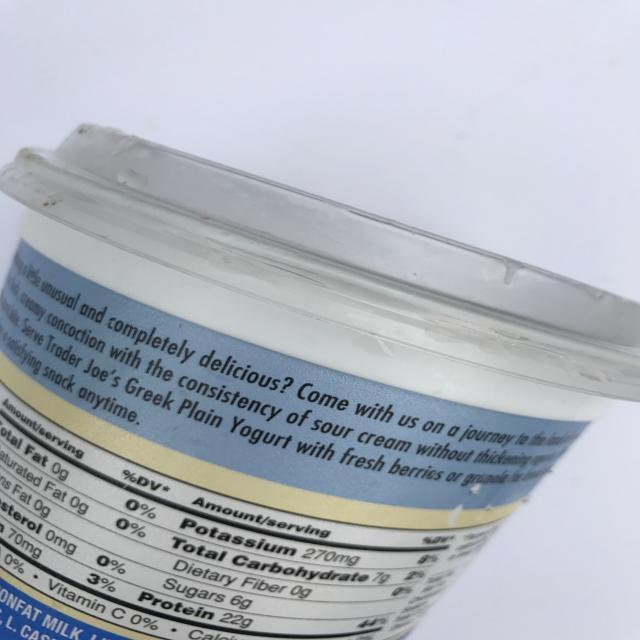plastic: (1, 112, 640, 639)
